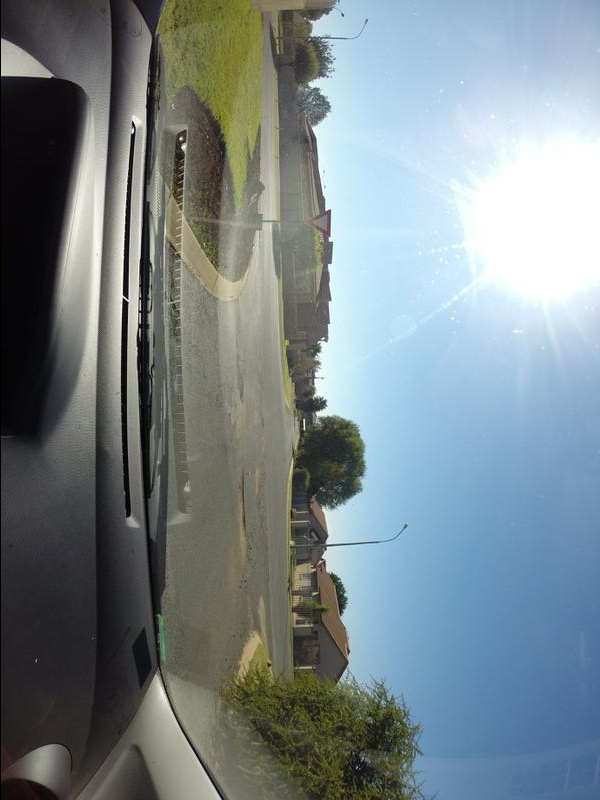pothole: (235, 468, 246, 550), (170, 282, 178, 355), (233, 358, 244, 410)
